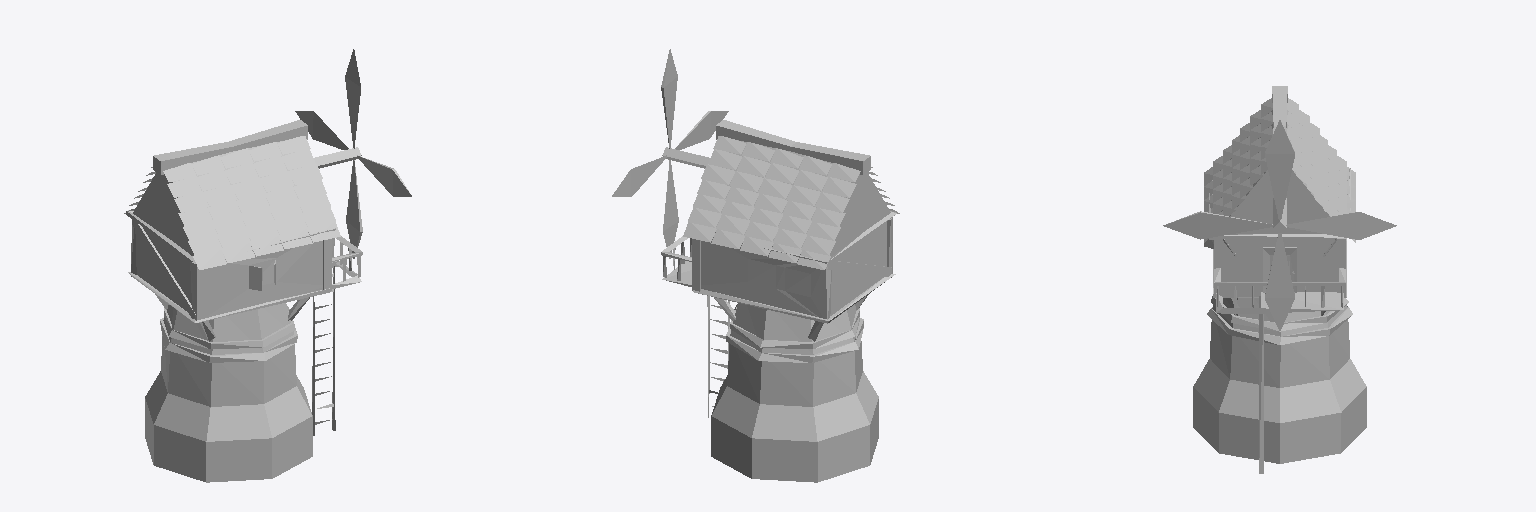
Rendered from Windmill LOD1.obj.
3 renders of one model, left to right at view 1: azimuth 30°, elevation 25°; view 2: azimuth 150°, elevation 25°; view 3: azimuth 270°, elevation 25°, orthographic.
Visible parts, largest first — view 1: Windmill_Cube.002; view 2: Windmill_Cube.002; view 3: Windmill_Cube.002.
Part boxes in pixels (bbox=[...]): Windmill_Cube.002: bbox=[124, 49, 411, 482]; Windmill_Cube.002: bbox=[612, 49, 899, 482]; Windmill_Cube.002: bbox=[1163, 86, 1396, 473].
Size of the model in its own units: 13.61 by 23.47 by 13.56.